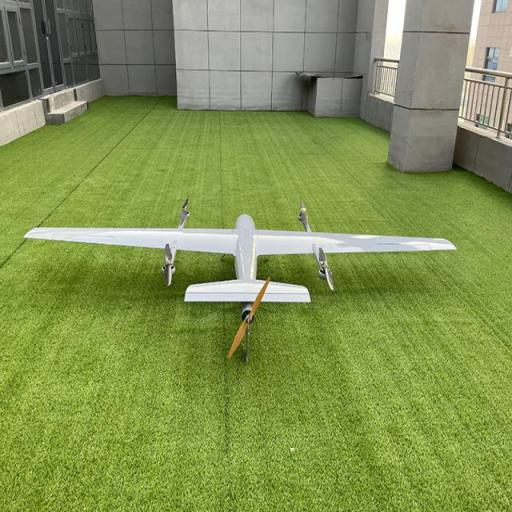uav: (18, 190, 464, 350)
